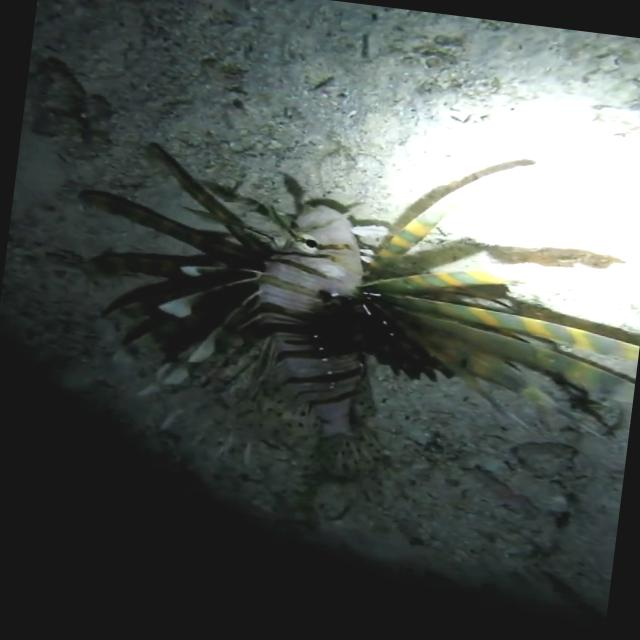Aslan Baligi: (42, 102, 640, 507)
